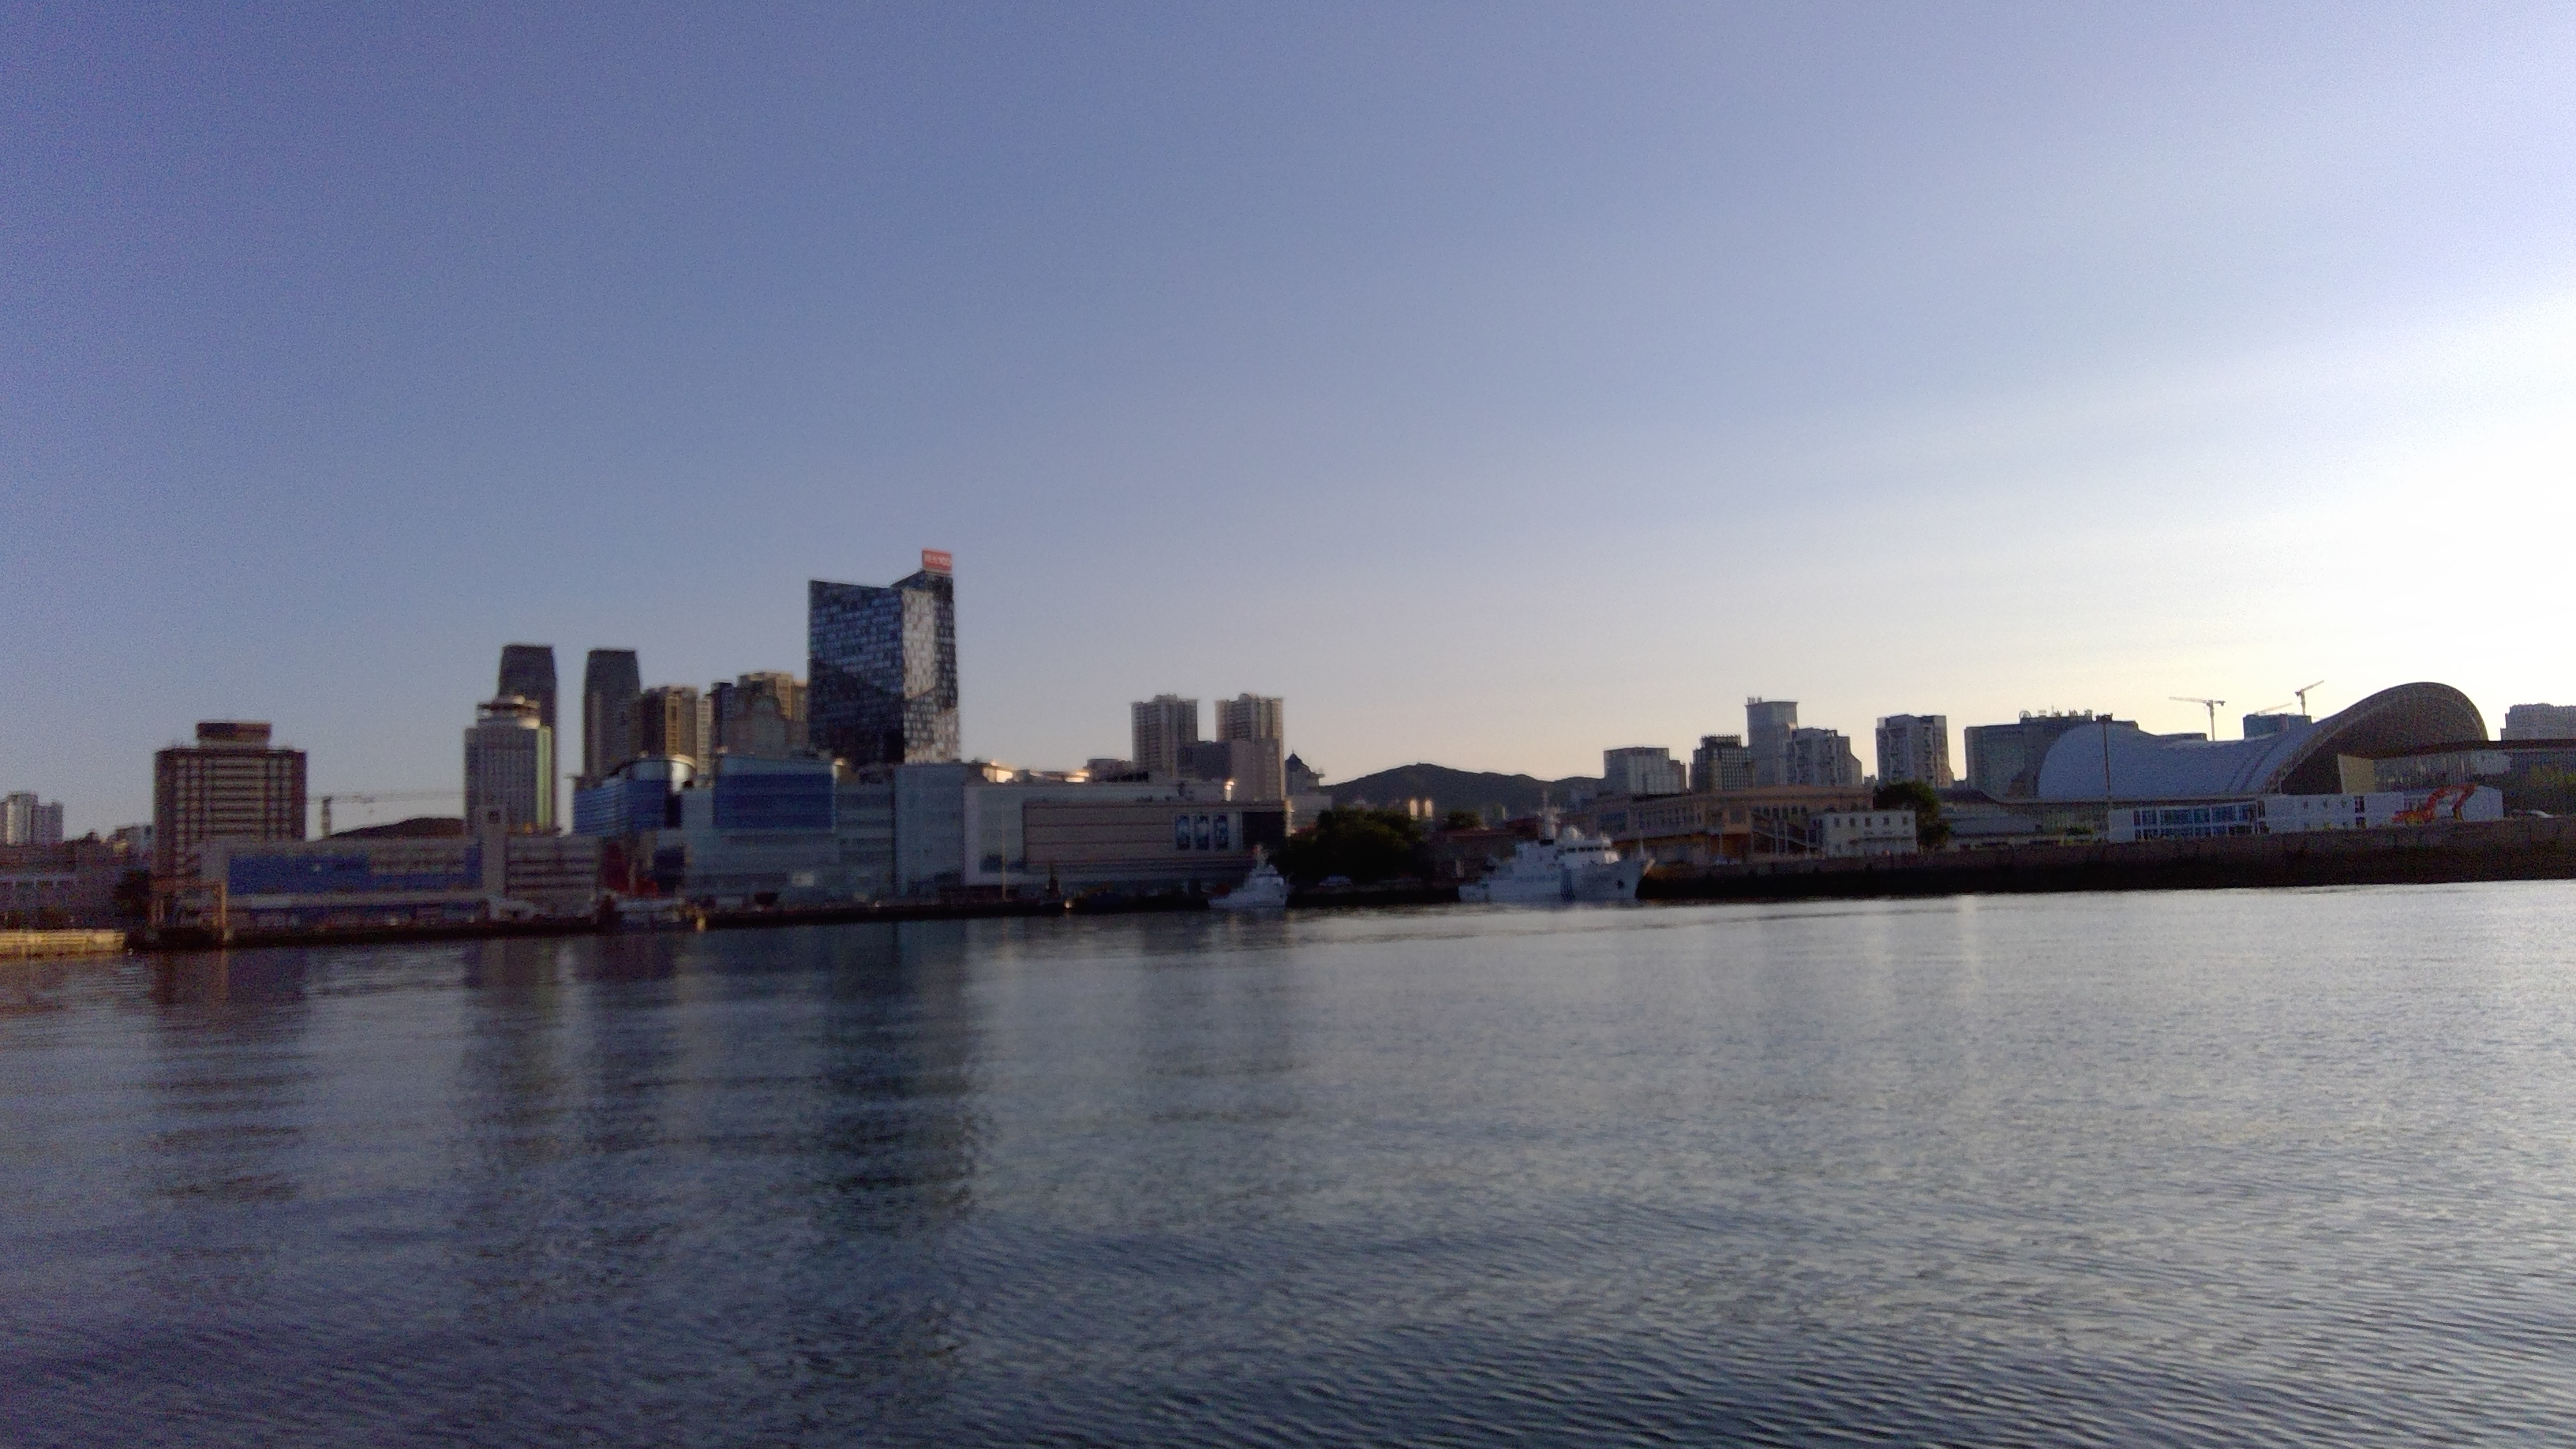ship: (1435, 803, 1661, 911)
